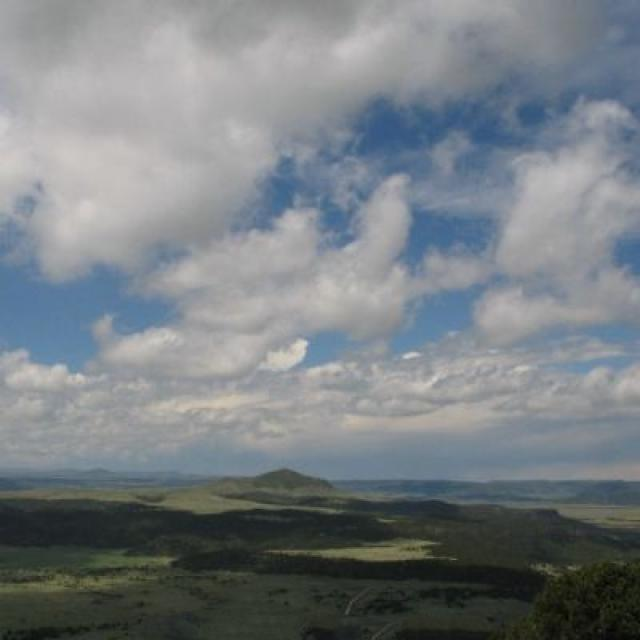Ci: (1, 1, 640, 459)
